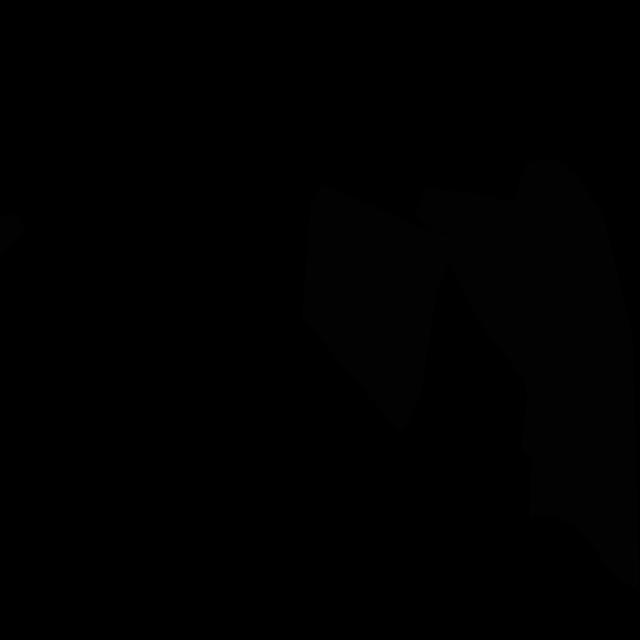cardboard: (414, 160, 640, 593), (302, 183, 450, 432), (0, 213, 26, 256)
